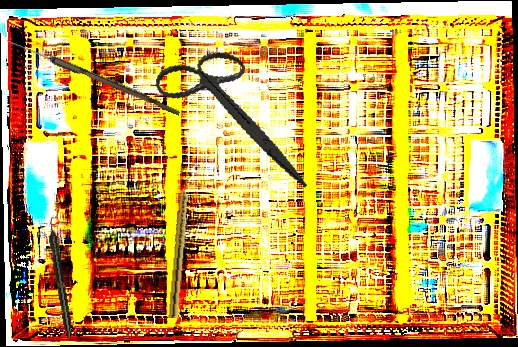Handpiece: (45, 216, 75, 339), (168, 175, 193, 319)
Iris Scissors: (140, 39, 331, 189)
Surgical Spoon: (5, 37, 182, 116)
